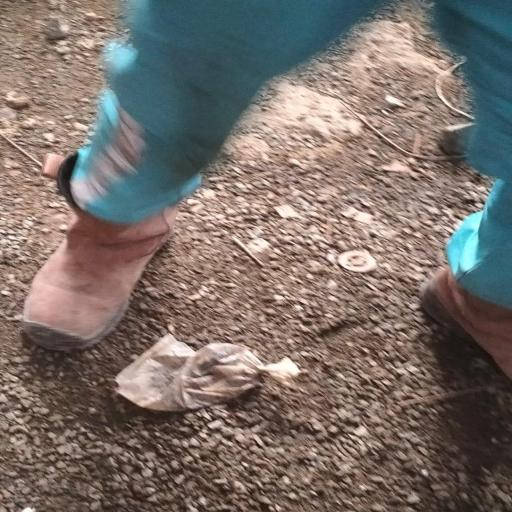safety_shoe: (18, 144, 188, 357)
